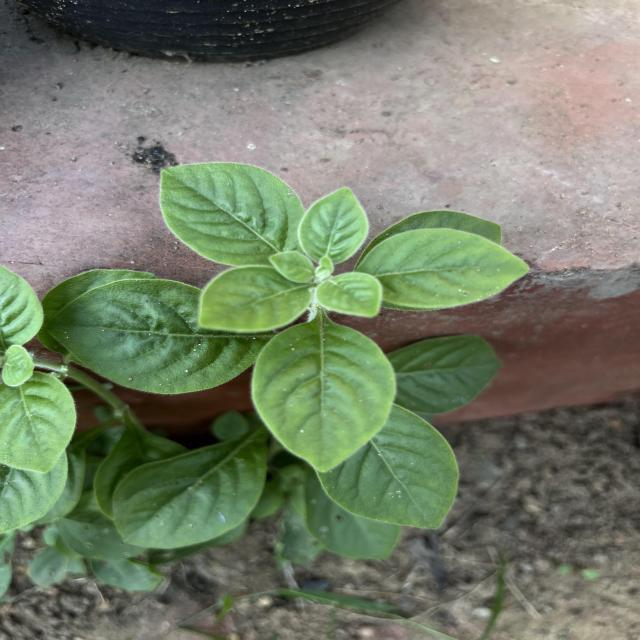Aerva lanata: (43, 276, 278, 398), (156, 158, 308, 268)
